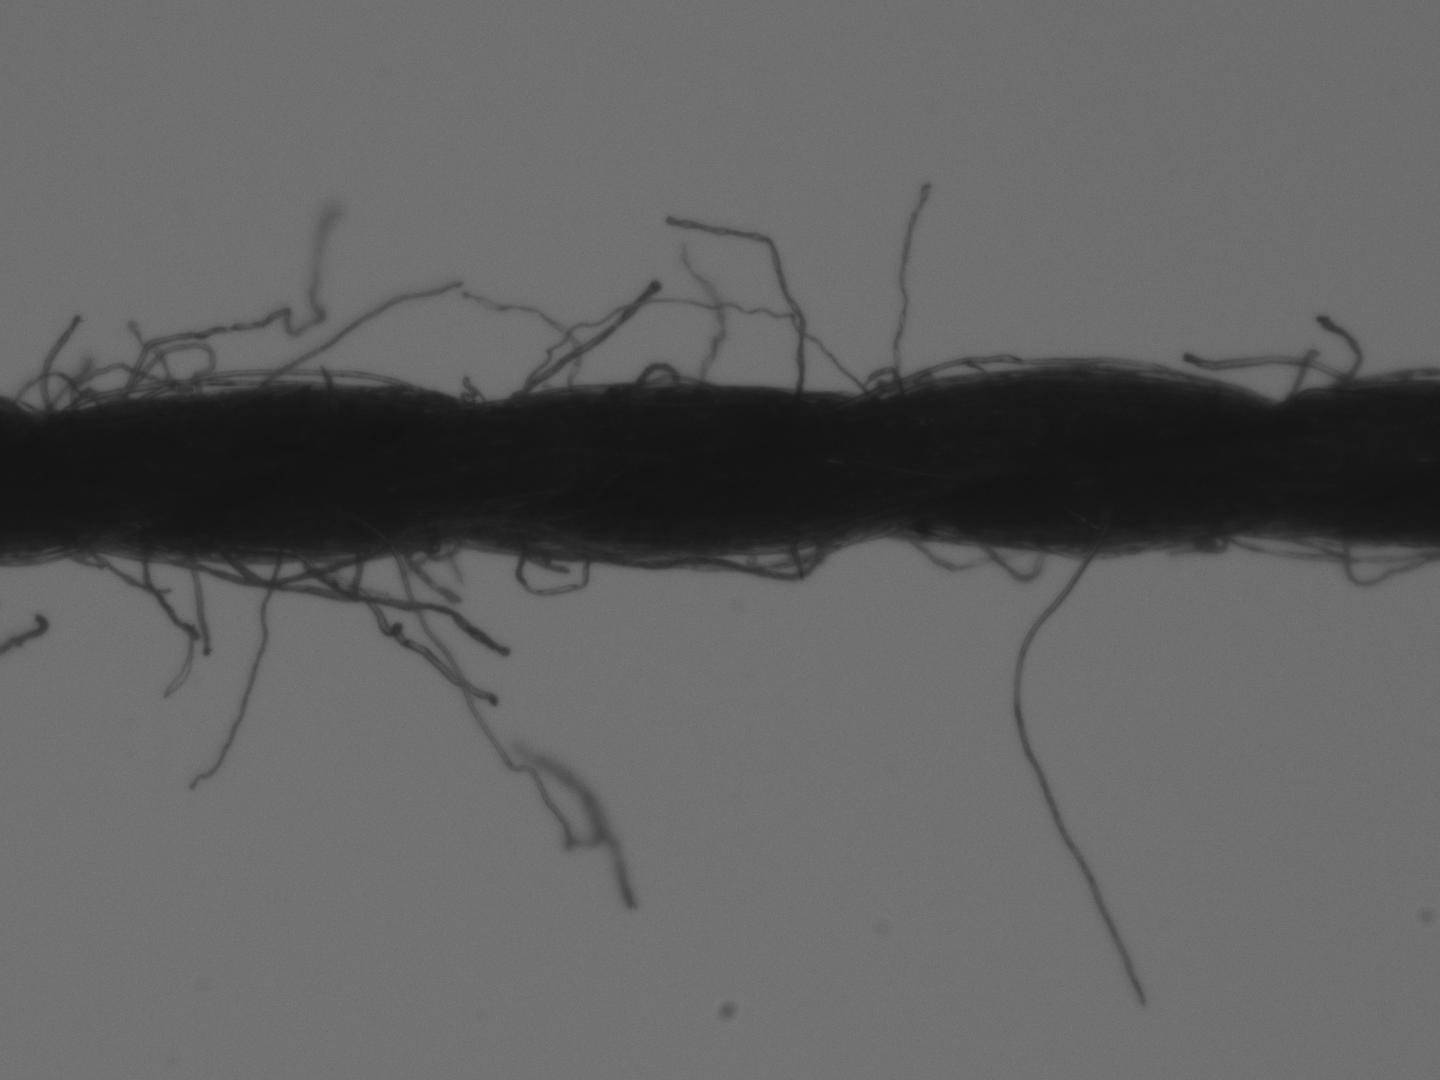loop_fiber: (853, 351, 1112, 395), (602, 539, 825, 582), (207, 549, 396, 596), (44, 360, 187, 416), (510, 532, 596, 599), (1340, 537, 1425, 584), (619, 358, 696, 405), (5, 370, 82, 415), (973, 539, 1041, 577)
protruding_fiber: (892, 179, 935, 380), (185, 548, 219, 660)
